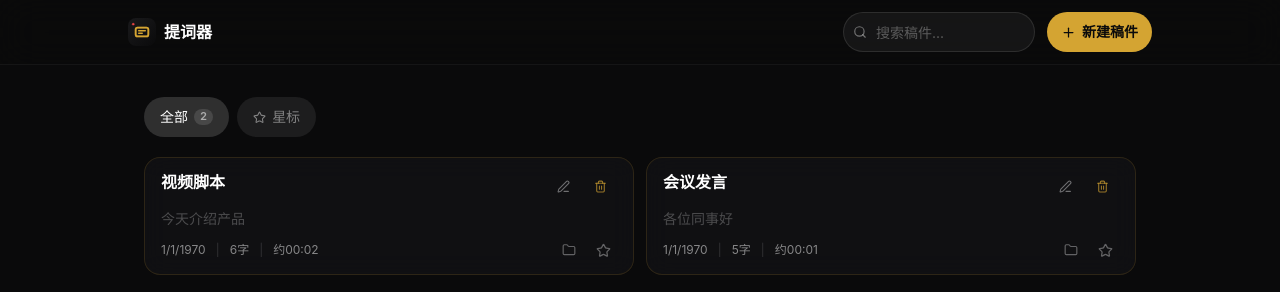
ScriptList › 搜索过滤（标题）
Step 1. Type "视频" into the field with placeholder "搜索稿件..." → (939, 32), box [843, 12, 1035, 52]
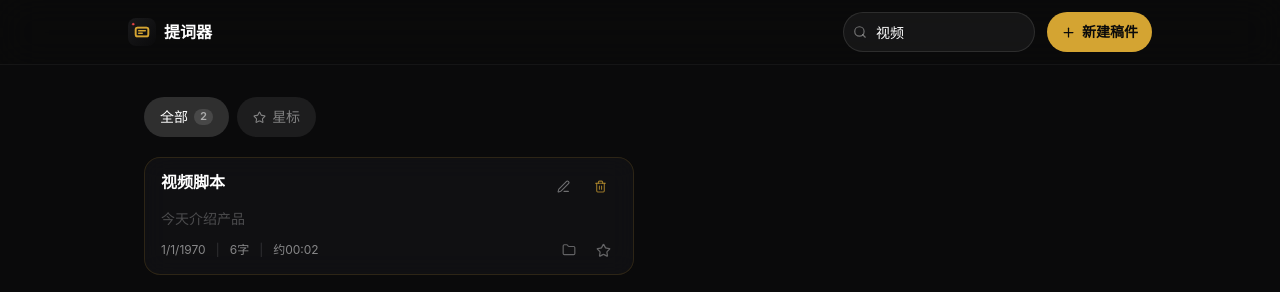
Check: the heading "视频脚本" is shown, box [161, 170, 225, 194]
Check: the heading "会议发言" is gone
